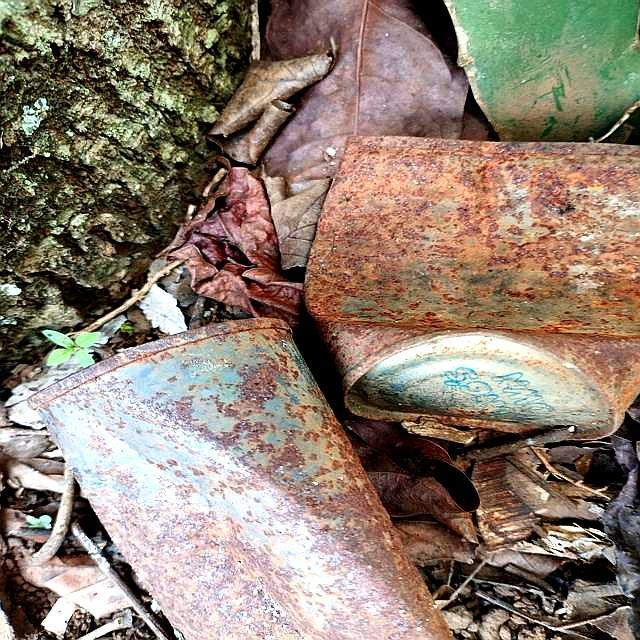Non-biodegradable: (20, 305, 461, 640), (303, 134, 640, 441)
